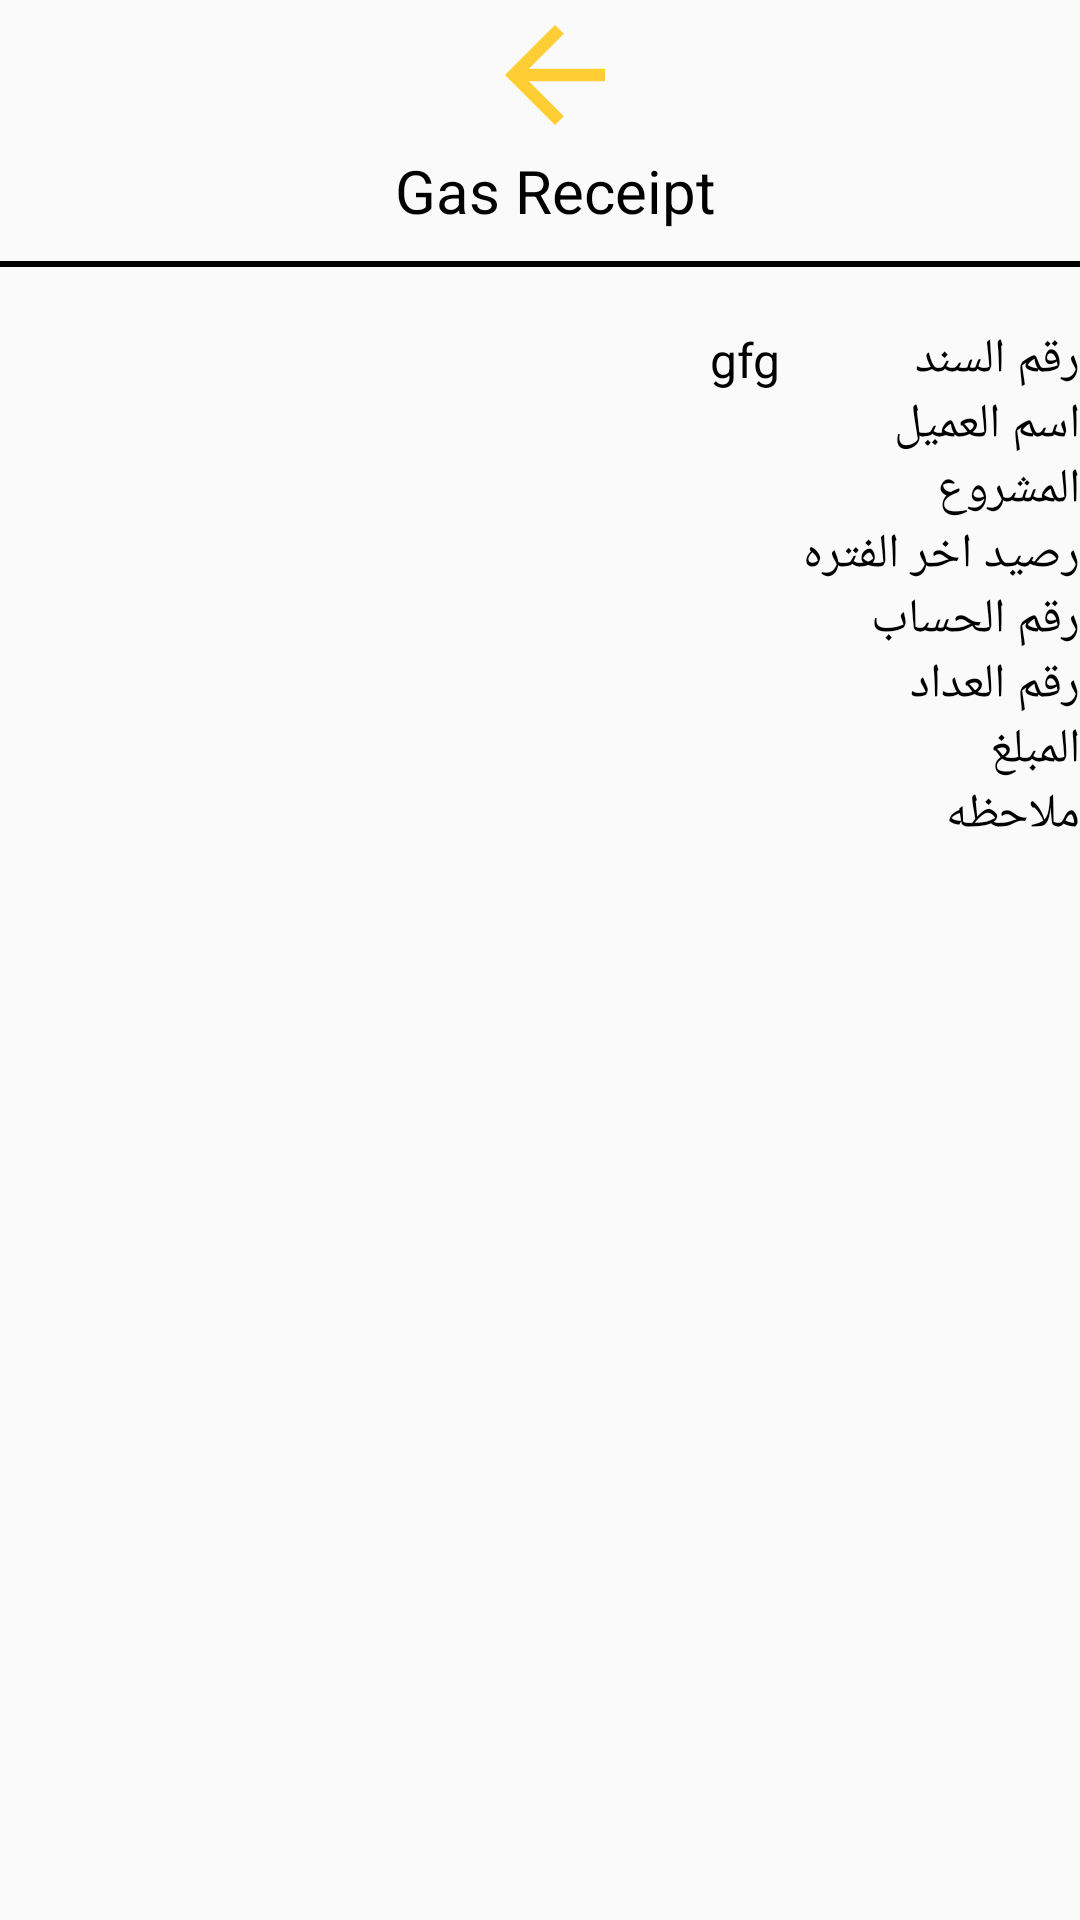

Icons on this 1080w x 1920h Android screen, each with the point to tap as point (x, y):
arrow back: point (555, 75)
